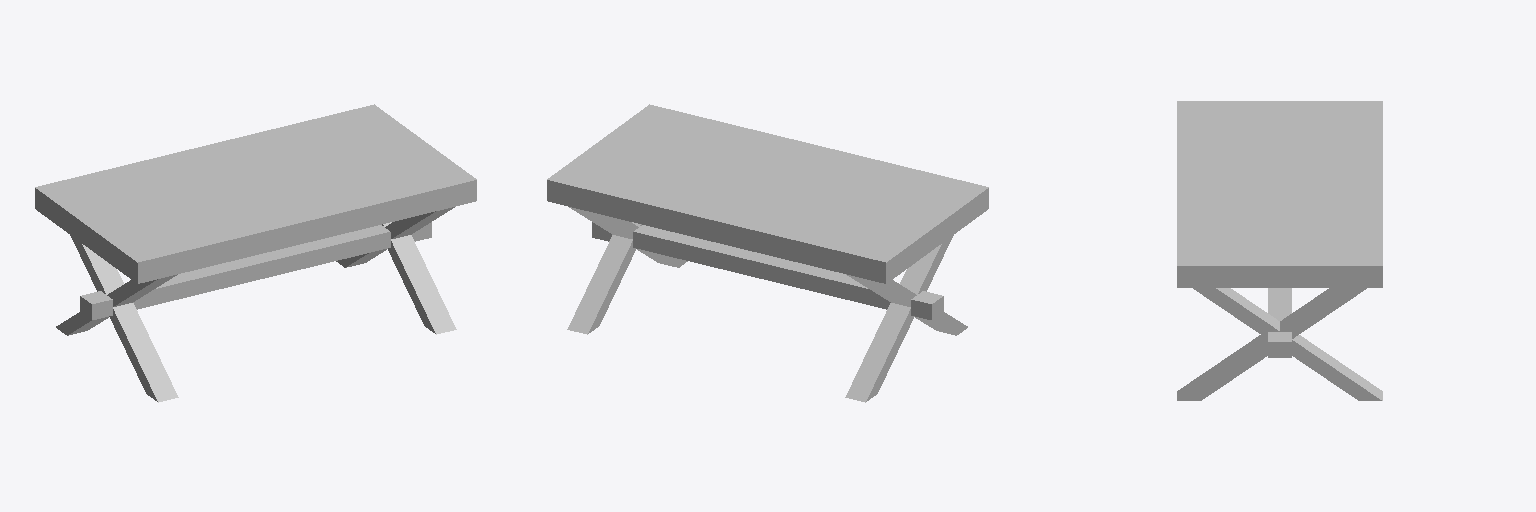
The model's file is tableCross.obj.
The picture shows the model from 3 angles: view 1: azimuth 30°, elevation 25°; view 2: azimuth 150°, elevation 25°; view 3: azimuth 270°, elevation 25°; orthographic projection.
Parts seen in each view (by area): view 1: tableCross; view 2: tableCross; view 3: tableCross.
Boxes of the visible parts, x1=… form: tableCross: x1=35, y1=104, x2=476, y2=402; tableCross: x1=547, y1=104, x2=988, y2=402; tableCross: x1=1177, y1=101, x2=1382, y2=400.
Bounding box in the file's own units: 0.8521 × 0.3474 × 0.4474.